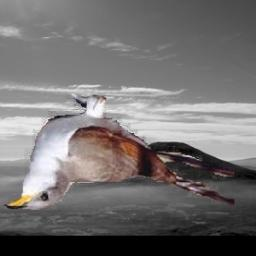Cuckoo: (5, 93, 235, 210)
